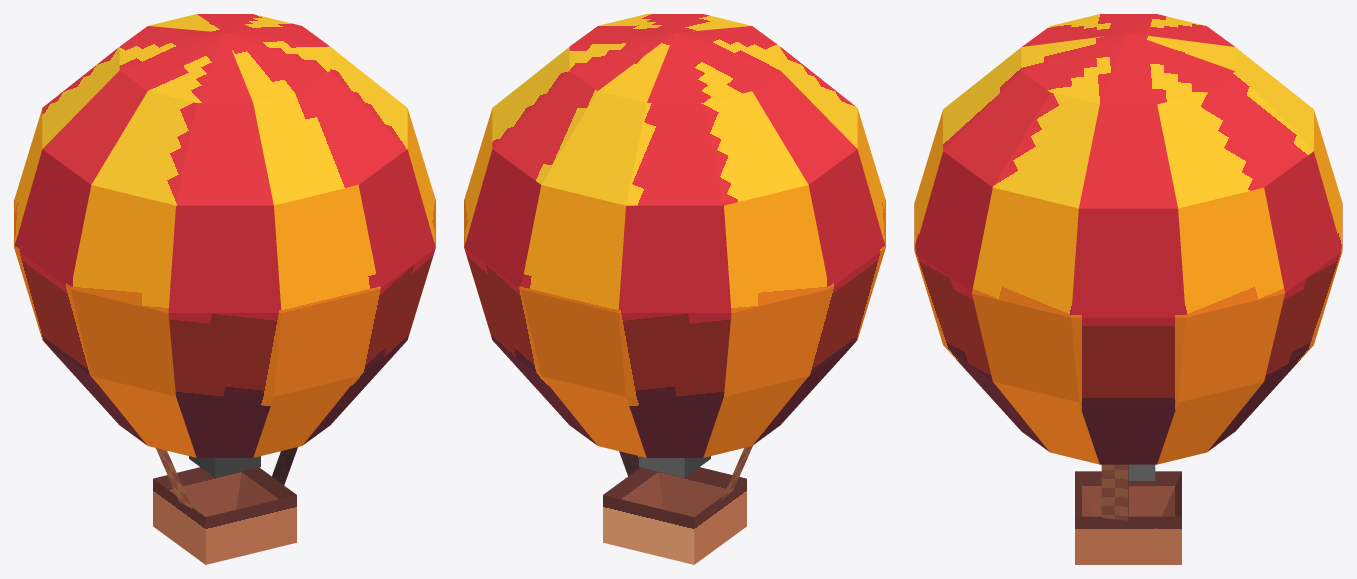
Rendered from hot air balloon.glb.
3 renders of one model, left to right at view 1: azimuth 30°, elevation 25°; view 2: azimuth 150°, elevation 25°; view 3: azimuth 270°, elevation 25°, orthographic.
Parts seen in each view (by area): view 1: sphere_0, cuboid_1, cube_4, cube_2, cube_3; view 2: sphere_0, cuboid_1, cube_4; view 3: sphere_0, cuboid_1, cube_3.
Part boxes in pixels (x1=…): sphere_0: x1=14, y1=14, x2=435, y2=457; cuboid_1: x1=153, y1=467, x2=296, y2=564; cube_4: x1=189, y1=456, x2=260, y2=477; cube_2: x1=156, y1=448, x2=192, y2=508; cube_3: x1=272, y1=447, x2=297, y2=485; sphere_0: x1=464, y1=14, x2=885, y2=457; cuboid_1: x1=603, y1=467, x2=746, y2=564; cube_4: x1=639, y1=456, x2=710, y2=477; sphere_0: x1=914, y1=14, x2=1342, y2=464; cuboid_1: x1=1075, y1=471, x2=1181, y2=564; cube_3: x1=1101, y1=464, x2=1128, y2=520.
Size of the model in its own units: 1 by 1.31 by 1.
Materials: 5 (5 with a texture image).
